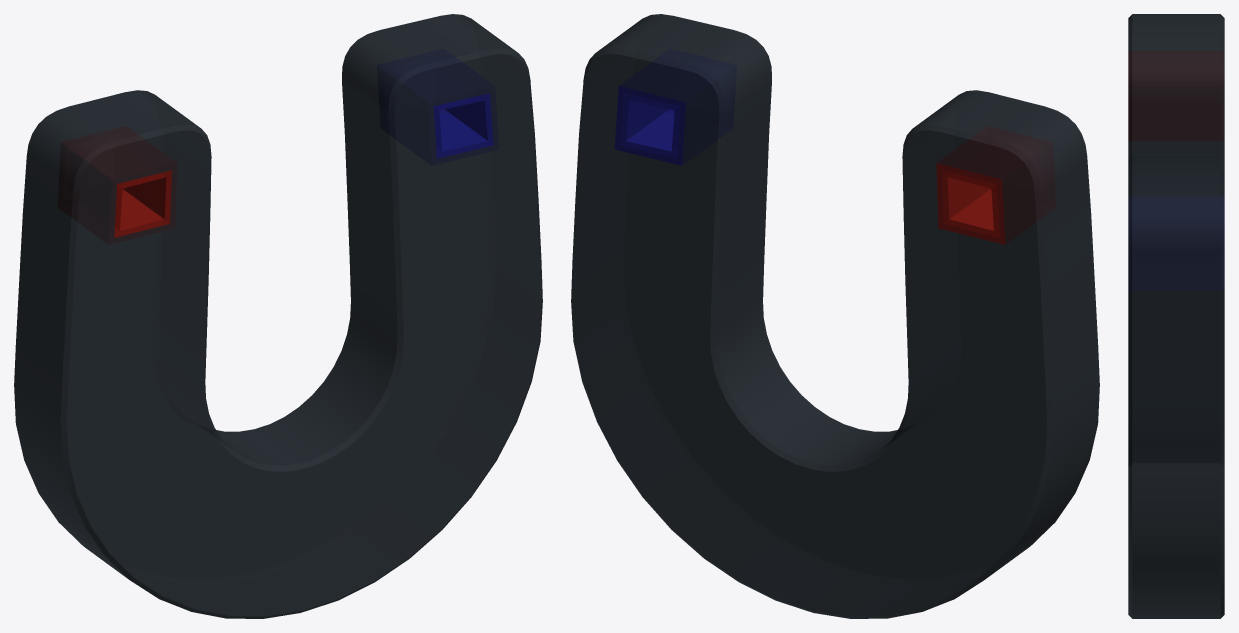
Rendered from Magnet02.fbx.
The picture shows the model from 3 angles, left to right: view 1: azimuth 30°, elevation 25°; view 2: azimuth 150°, elevation 25°; view 3: azimuth 270°, elevation 25°; orthographic projection. The views are drawn at different scales.
Visible parts, largest first — view 1: magnet, red005, blue005; view 2: magnet, red005, blue005; view 3: magnet, blue005, red005.
Boxes of the visible parts, x1,y1,x2,y2 form: magnet: (14, 14, 542, 618); red005: (58, 126, 176, 244); blue005: (377, 49, 498, 165); magnet: (571, 14, 1099, 618); red005: (936, 126, 1055, 244); blue005: (614, 49, 736, 165); magnet: (1128, 14, 1224, 618); blue005: (1129, 197, 1223, 290); red005: (1129, 51, 1223, 140).
Size of the model in its own units: 59.7 by 61.29 by 10.96.
